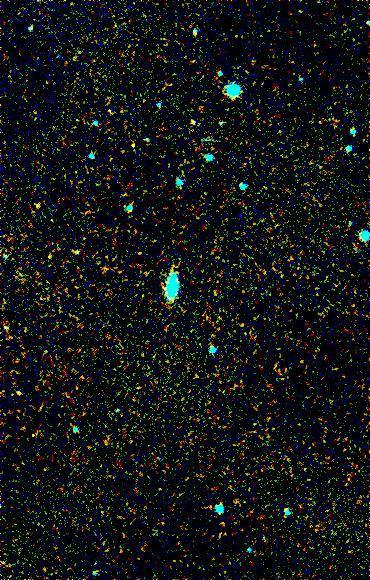star: (24, 190, 54, 220)
